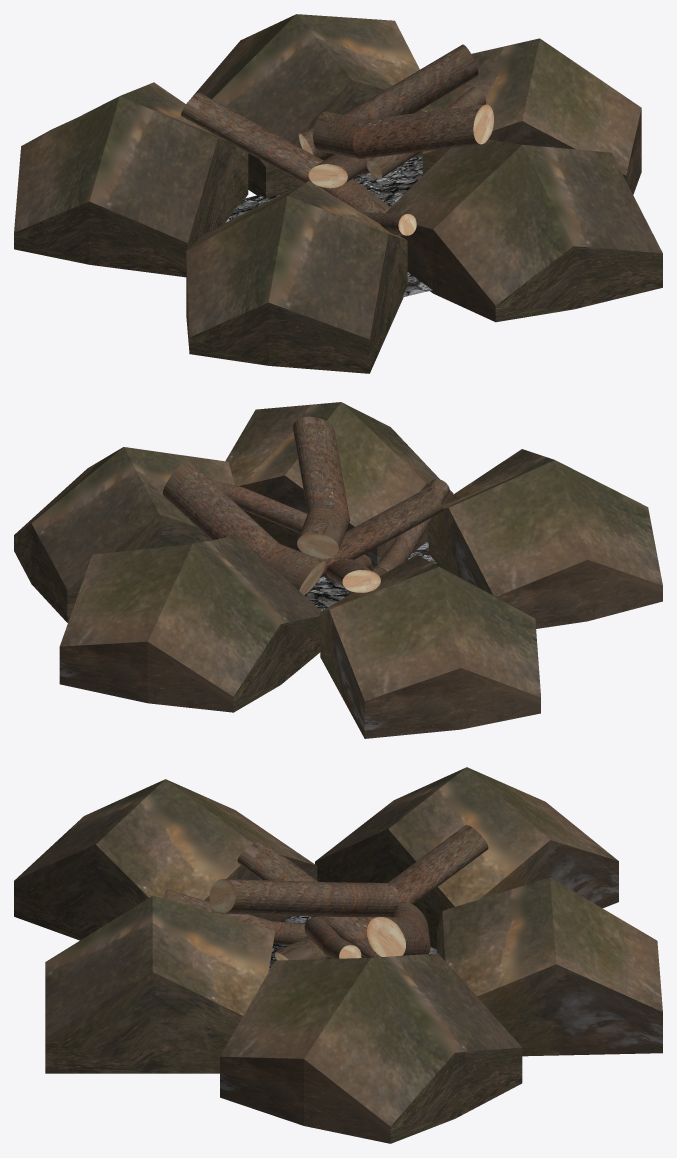
The model's file is Campfire.fbx.
3 renders of one model, top to bottom at view 1: azimuth 30°, elevation 25°; view 2: azimuth 150°, elevation 25°; view 3: azimuth 270°, elevation 25°, orthographic. The views are drawn at different scales.
Visible parts, largest first — view 1: Cube, Cube.004, Cube.003, Cube.002, Cube.001, Cylinder.004, Cylinder.001, Cylinder.003, Plane, Cylinder.002, Cylinder.005, Cylinder; view 2: Cube.002, Cube.003, Cube.004, Cube.001, Cube, Cylinder.003, Cylinder.004, Cylinder.002, Cylinder.005, Cylinder, Cylinder.001, Plane; view 3: Cube.001, Cube, Cube.002, Cube.004, Cube.003, Cylinder.004, Cylinder.001, Cylinder.002, Cylinder.003, Cylinder, Cylinder.005.
Boxes of the visible parts, x1=… form: Cube: x1=385, y1=139, x2=662, y2=322; Cube.004: x1=186, y1=181, x2=407, y2=373; Cube.003: x1=14, y1=82, x2=248, y2=277; Cube.002: x1=187, y1=14, x2=430, y2=198; Cube.001: x1=422, y1=38, x2=641, y2=194; Cylinder.004: x1=313, y1=104, x2=493, y2=158; Cylinder.001: x1=181, y1=92, x2=390, y2=212; Cylinder.003: x1=298, y1=44, x2=478, y2=160; Plane: x1=225, y1=155, x2=432, y2=297; Cylinder.002: x1=308, y1=154, x2=372, y2=188; Cylinder.005: x1=366, y1=87, x2=486, y2=179; Cylinder: x1=361, y1=212, x2=416, y2=235; Cube.002: x1=59, y1=535, x2=321, y2=712; Cube.003: x1=320, y1=554, x2=540, y2=738; Cube.004: x1=428, y1=449, x2=662, y2=628; Cube.001: x1=14, y1=447, x2=234, y2=622; Cube: x1=225, y1=402, x2=453, y2=570; Cylinder.003: x1=162, y1=460, x2=325, y2=595; Cylinder.004: x1=293, y1=416, x2=349, y2=558; Cylinder.002: x1=320, y1=486, x2=443, y2=578; Cylinder.005: x1=211, y1=480, x2=307, y2=533; Cylinder: x1=372, y1=479, x2=449, y2=576; Cylinder.001: x1=326, y1=554, x2=380, y2=592; Plane: x1=304, y1=542, x2=439, y2=610; Cube.001: x1=220, y1=953, x2=522, y2=1143; Cube: x1=45, y1=895, x2=275, y2=1073; Cube.002: x1=437, y1=877, x2=662, y2=1056; Cube.004: x1=14, y1=779, x2=317, y2=940; Cube.003: x1=315, y1=767, x2=618, y2=949; Cylinder.004: x1=209, y1=879, x2=398, y2=917; Cylinder.001: x1=274, y1=825, x2=488, y2=960; Cylinder.002: x1=237, y1=841, x2=380, y2=957; Cylinder.003: x1=367, y1=901, x2=430, y2=956; Cylinder: x1=163, y1=889, x2=306, y2=945; Cylinder.005: x1=304, y1=917, x2=361, y2=958.
Bounding box in the file's own units: 370 × 84.18 × 340.
